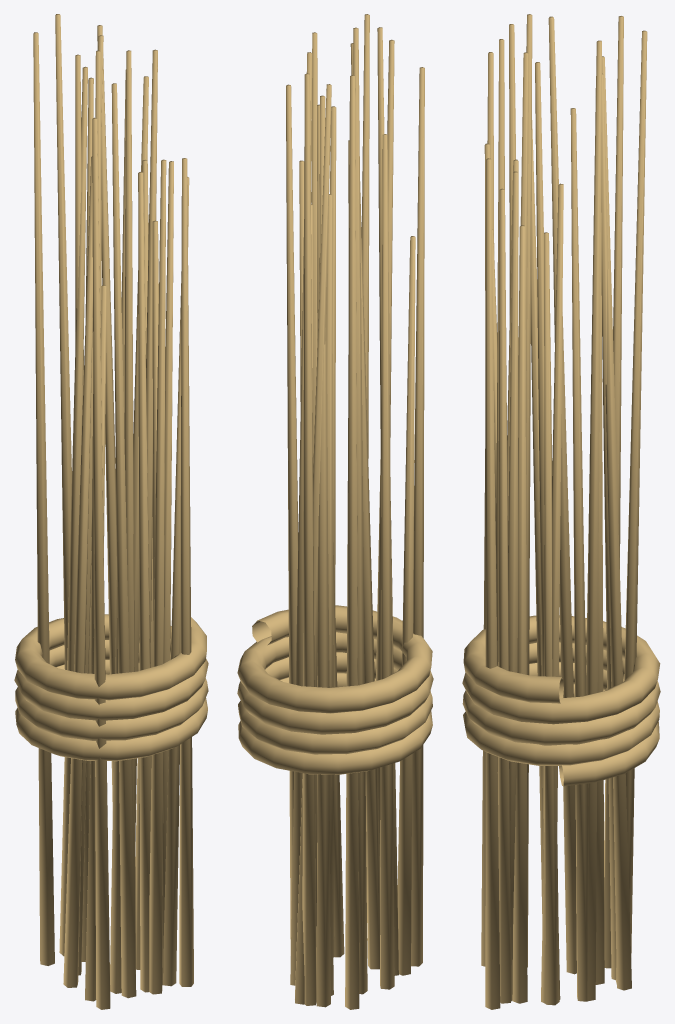
Rendered from reed_bundle.glb.
3 renders of one model, left to right at view 1: azimuth 30°, elevation 25°; view 2: azimuth 150°, elevation 25°; view 3: azimuth 270°, elevation 25°, orthographic. The views are drawn at different scales.
Visible parts, largest first — view 1: reed_binding, reed_9, reed_5, reed_20, reed_21, reed_6, reed_15, reed_16, reed_18, reed_13, reed_1, reed_19 (+12 smaller); view 2: reed_binding, reed_19, reed_9, reed_15, reed_20, reed_18, reed_10, reed_23, reed_8, reed_2, reed_12, reed_14 (+9 smaller); view 3: reed_binding, reed_2, reed_21, reed_14, reed_12, reed_13, reed_23, reed_11, reed_19, reed_17, reed_4, reed_3 (+13 smaller).
Part boxes in pixels (x1,y1,x2,y2): reed_binding: [14, 614, 208, 761]; reed_9: [33, 32, 54, 965]; reed_5: [111, 83, 136, 998]; reed_20: [92, 117, 110, 1009]; reed_21: [179, 158, 193, 986]; reed_6: [149, 159, 166, 994]; reed_15: [63, 156, 92, 987]; reed_16: [138, 172, 151, 992]; reed_18: [59, 66, 87, 956]; reed_13: [163, 177, 189, 986]; reed_1: [124, 50, 135, 973]; reed_19: [55, 14, 71, 669]; reed_binding: [237, 605, 433, 774]; reed_19: [302, 73, 316, 1005]; reed_9: [345, 75, 359, 1009]; reed_15: [380, 134, 394, 989]; reed_20: [411, 67, 424, 966]; reed_18: [316, 95, 330, 1007]; reed_10: [397, 236, 415, 975]; reed_23: [353, 27, 367, 994]; reed_8: [350, 43, 380, 969]; reed_2: [286, 84, 298, 955]; reed_12: [295, 84, 331, 1004]; reed_14: [290, 52, 312, 985]; reed_binding: [462, 615, 660, 786]; reed_2: [570, 108, 588, 1001]; reed_21: [485, 158, 500, 1009]; reed_14: [586, 40, 601, 1001]; reed_12: [602, 56, 631, 990]; reed_13: [497, 188, 511, 1003]; reed_23: [548, 16, 576, 974]; reed_11: [512, 225, 527, 1003]; reed_19: [616, 30, 647, 982]; reed_17: [544, 232, 559, 1005]; reed_4: [508, 171, 518, 1000]; reed_3: [541, 183, 563, 1003].
Bounding box in the file's own units: 0.22 × 1.18 × 0.22.
